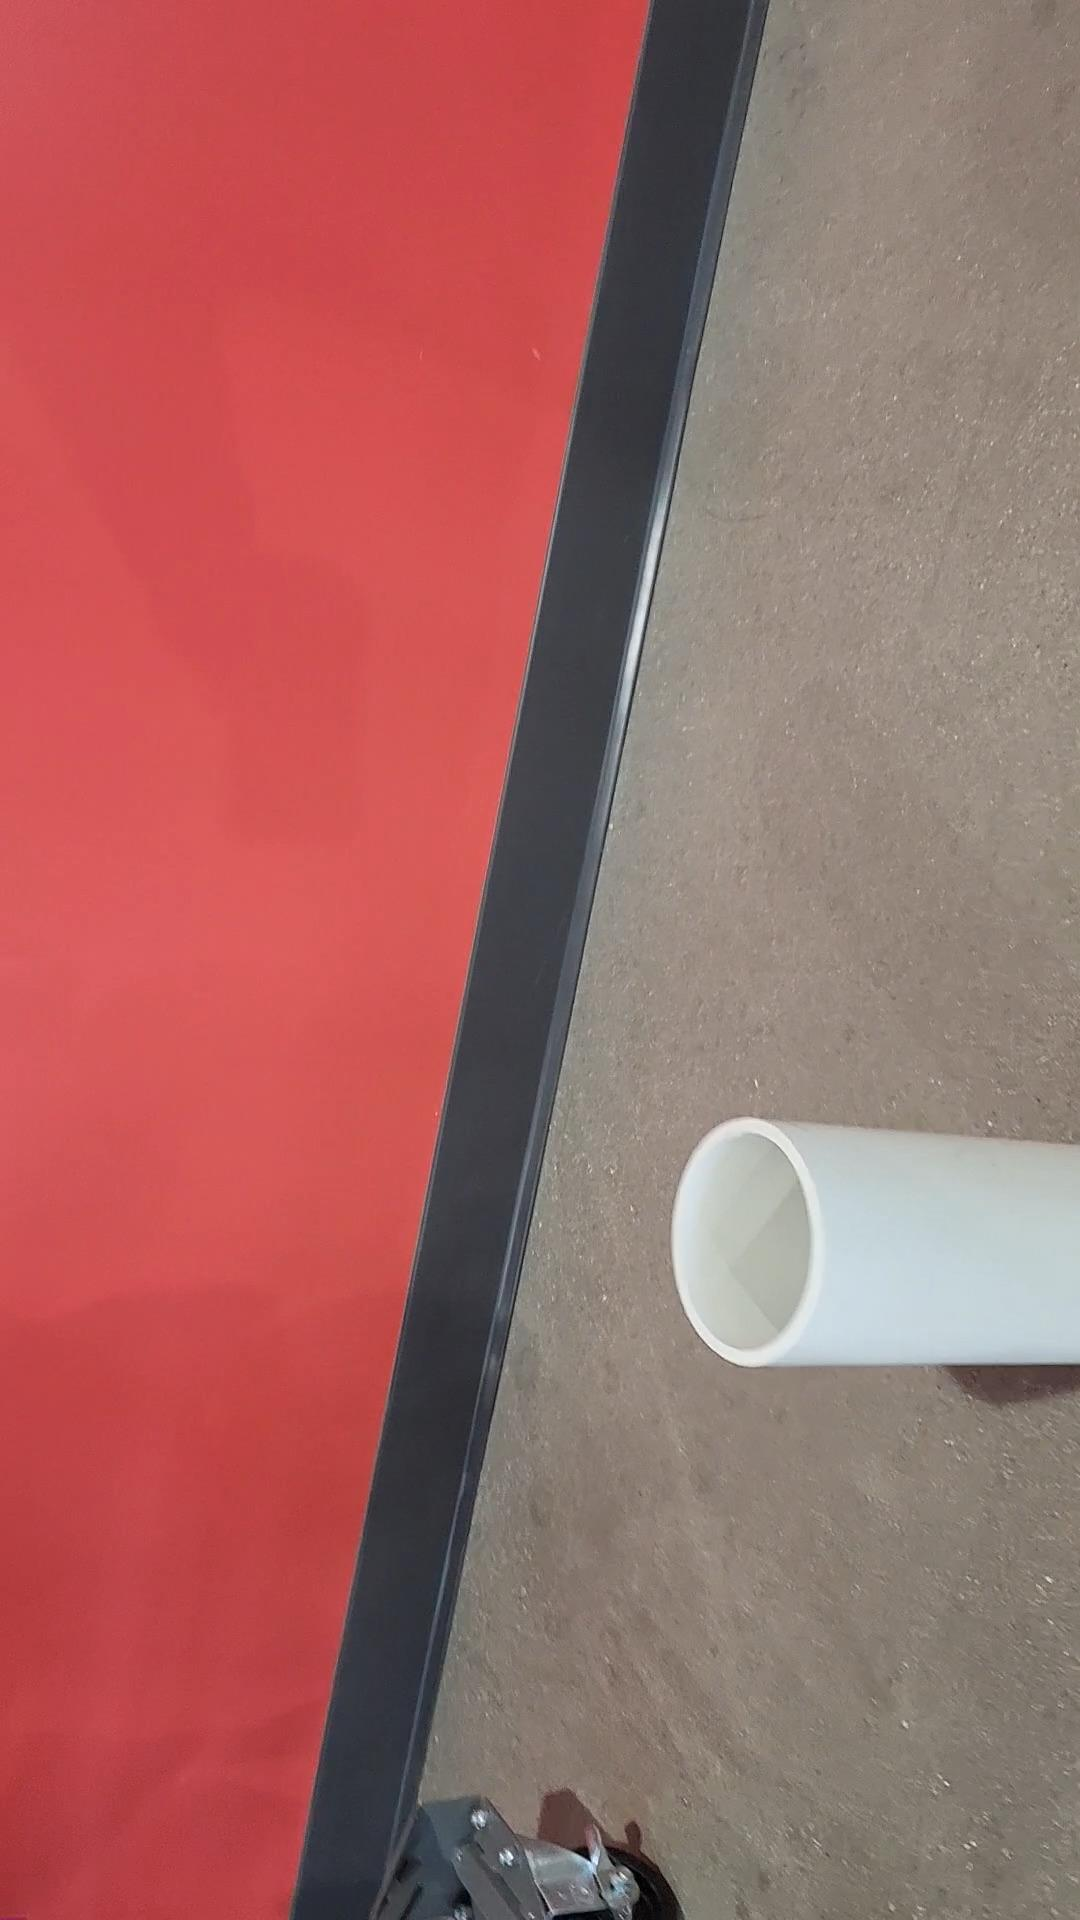coral: (663, 1108, 1080, 1383)
